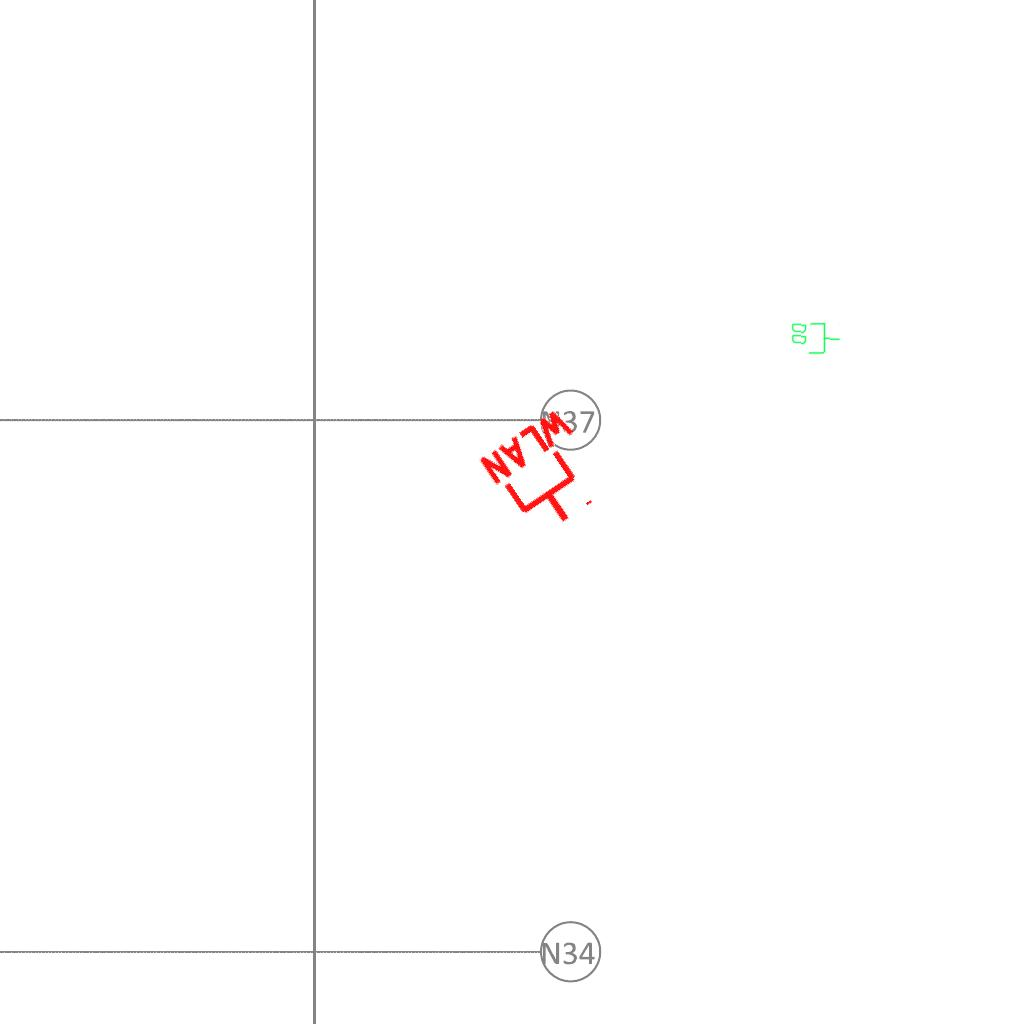Datenanschluss_zweifach: (789, 320, 842, 356)
WLAN: (474, 402, 619, 548)
